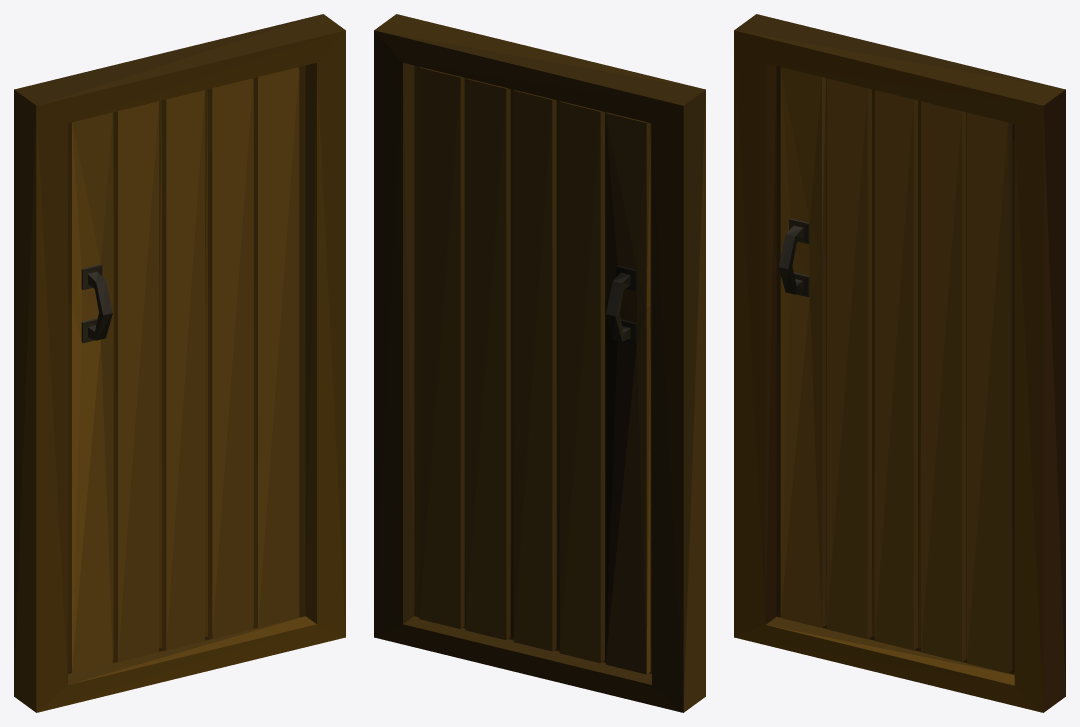
File: Object Door 2026-07-31_19-51-11.obj
The picture shows the model from 3 angles, left to right: view 1: azimuth 30°, elevation 25°; view 2: azimuth 150°, elevation 25°; view 3: azimuth 330°, elevation 25°; orthographic projection.
Visible parts, largest first — view 1: Object Door 2026-07-31_19-51-11; view 2: Object Door 2026-07-31_19-51-11; view 3: Object Door 2026-07-31_19-51-11.
Boxes of the visible parts, bbox=[...] form: Object Door 2026-07-31_19-51-11: bbox=[14, 14, 345, 712]; Object Door 2026-07-31_19-51-11: bbox=[374, 14, 705, 712]; Object Door 2026-07-31_19-51-11: bbox=[734, 14, 1065, 712].
Bounding box in the file's own units: 128 × 240 × 33.
